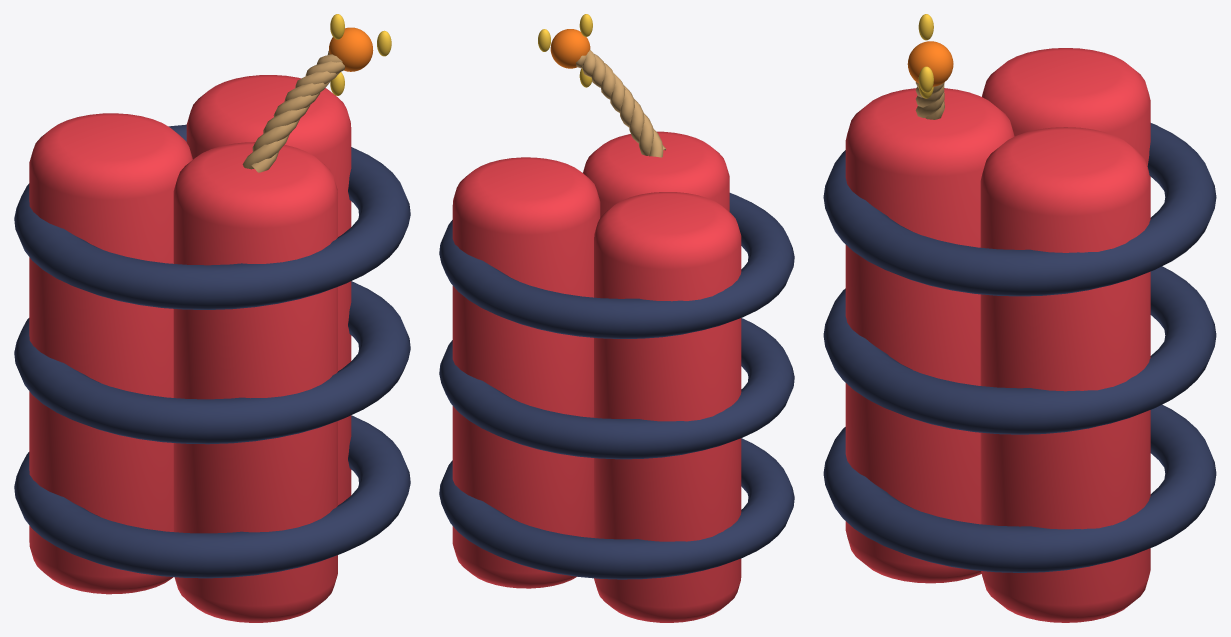
Rendered from dynamite.glb.
The picture shows the model from 3 angles, left to right: view 1: azimuth 30°, elevation 25°; view 2: azimuth 150°, elevation 25°; view 3: azimuth 270°, elevation 25°; orthographic projection. The views are drawn at different scales.
Parts seen in each view (by area): view 1: dynamite; view 2: dynamite; view 3: dynamite.
Boxes of the visible parts, x1,y1,x2,y2 form: dynamite: (14, 14, 410, 622); dynamite: (439, 14, 794, 622); dynamite: (823, 14, 1216, 622).
Bounding box in the file's own units: 1.9 × 2.95 × 1.8.
